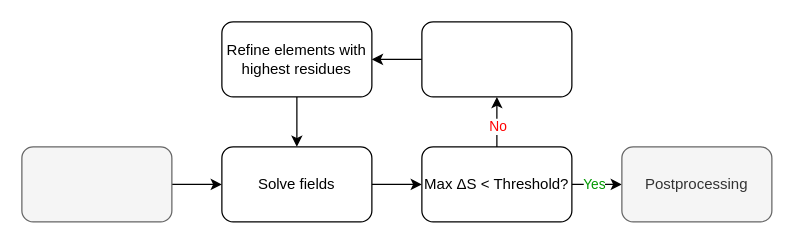
Image size: 794x244. Some labels were removed from this diagram. Each missing label, with the box of its shape:
Calculate residues of each element: (421, 21, 572, 97)
Create mesh through Delaunay Tesselation: (21, 146, 172, 222)
